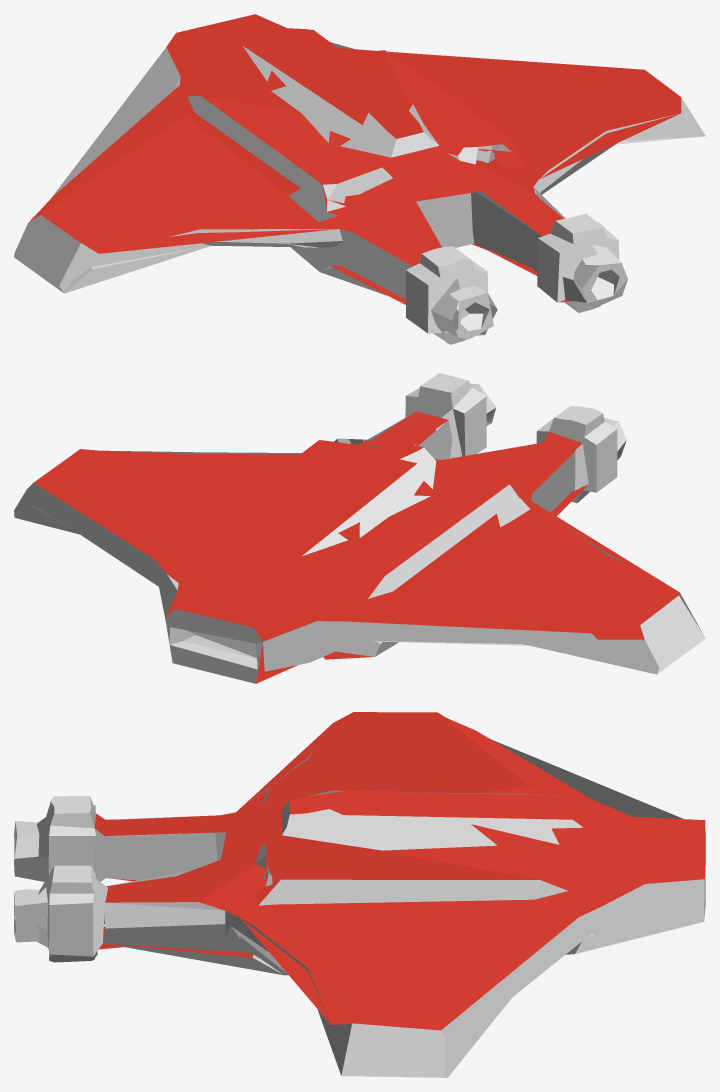
The model's file is vanguard_t1.glb.
3 views of the same model, one above another, from view 1: azimuth 30°, elevation 25°; view 2: azimuth 150°, elevation 25°; view 3: azimuth 270°, elevation 25° (orthographic). The views are drawn at different scales.
Parts seen in each view (by area): view 1: Spaceship; view 2: Spaceship; view 3: Spaceship.
Boxes of the visible parts, bbox=[...] form: Spaceship: bbox=[14, 14, 705, 344]; Spaceship: bbox=[14, 373, 705, 683]; Spaceship: bbox=[14, 712, 705, 1077].
Bounding box in the file's own units: 38.79 × 7.72 × 33.82.
